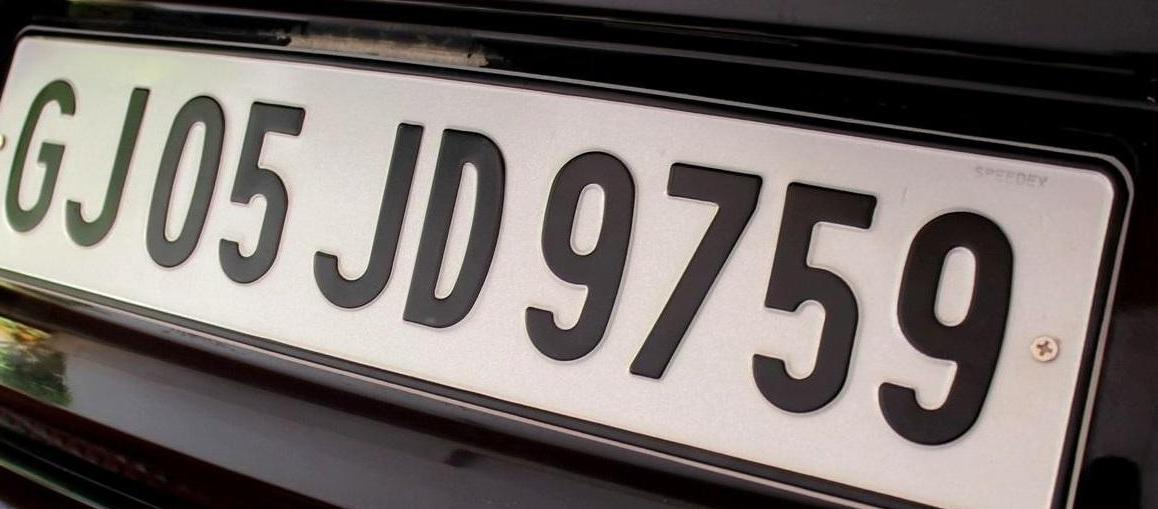0: (143, 94, 225, 270)
5: (749, 177, 876, 418), (217, 98, 306, 286)
7: (627, 160, 764, 386)
9: (876, 207, 1017, 450), (522, 149, 636, 366)
D: (400, 124, 507, 327)
G: (1, 76, 79, 236)
J: (311, 120, 424, 309), (63, 83, 150, 251)
